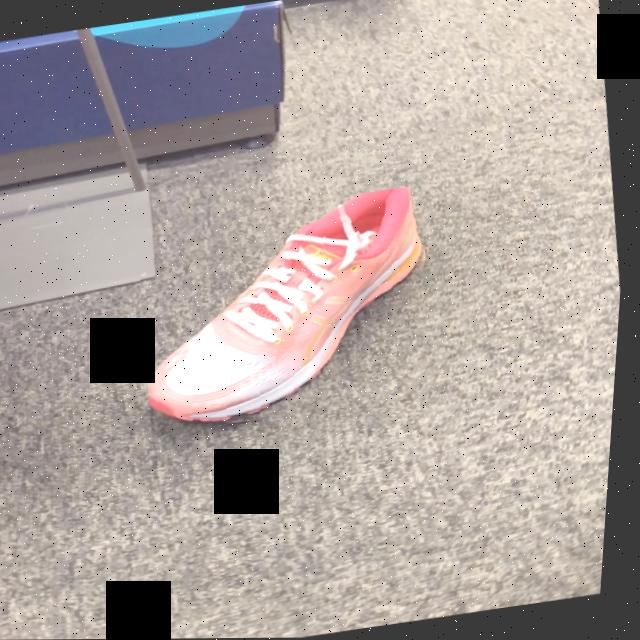shoe: (154, 188, 428, 428)
